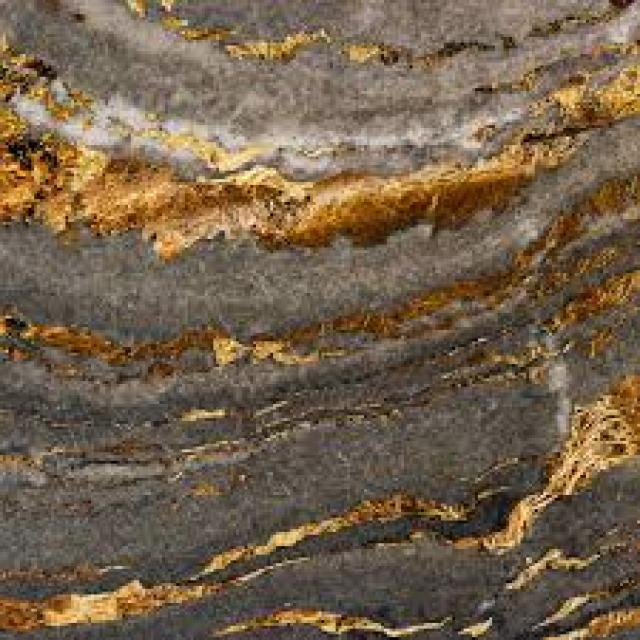Metamorphic: (3, 3, 620, 631)
